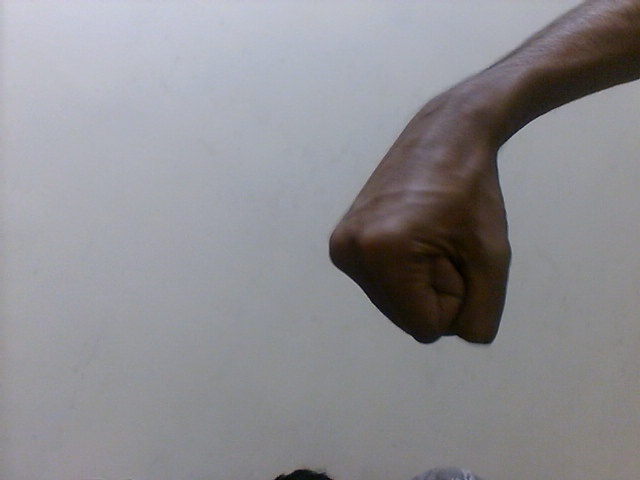hand: (323, 97, 516, 350)
